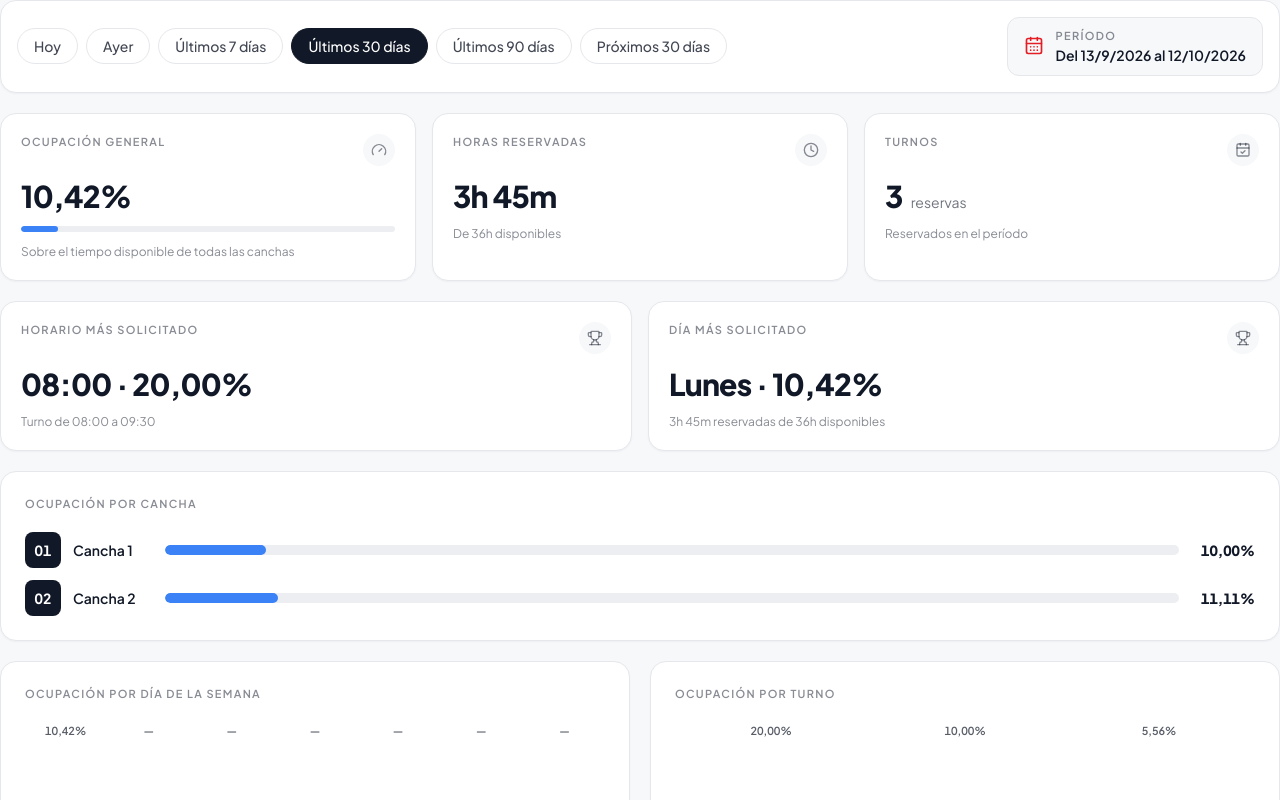
Test: OccupancyMetrics › muestra los indicadores de ocupación general, horas reservadas, turnos y lo más solicitado
The image size is (1280, 800).
Expected: the text with test id "kpi-occupancy" is shown, [21,176,131,214]
Step 1. Click the button "Últimos 7 días" → (221, 46), box [158,28,284,64]
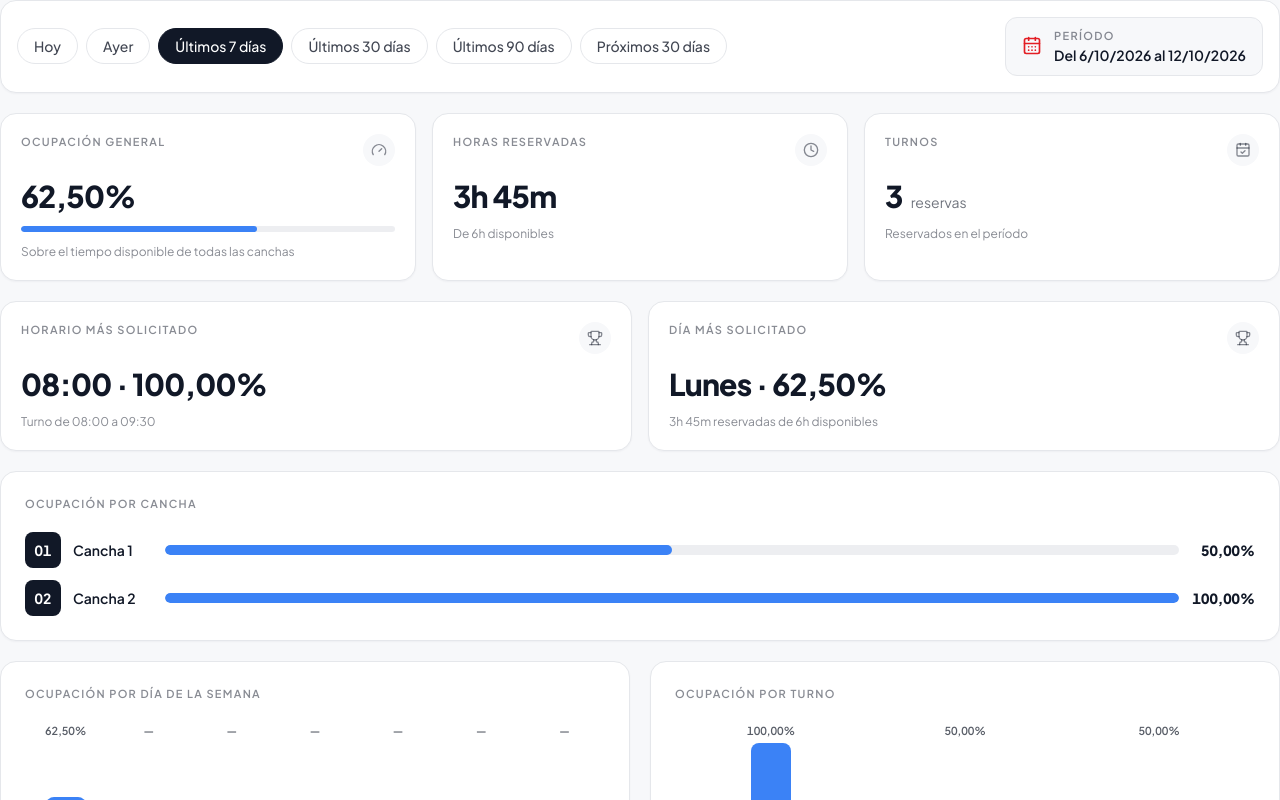
Expected: the text with test id "kpi-occupancy" reads "62,50%", [21,176,136,214]
Expected: the text with test id "kpi-top-slot" reads "08:00 · 100,00%", [21,364,267,402]
Expected: the text with test id "kpi-top-day" reads "Lunes · 62,50%", [669,364,887,402]
